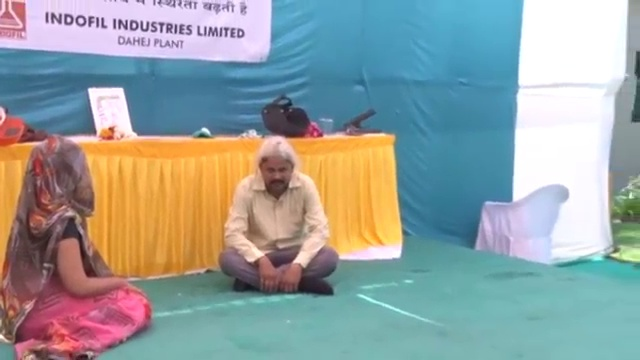helmet_off: (21, 137, 94, 216), (257, 138, 296, 193)
person: (1, 136, 154, 360), (218, 136, 341, 296)
